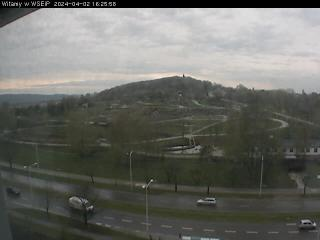car: (68, 196, 94, 212), (298, 218, 316, 230), (196, 196, 216, 206), (6, 185, 20, 195)
